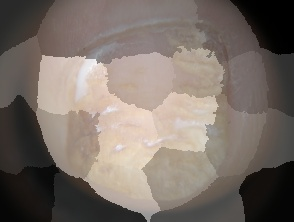Nail_psoriasis: (51, 9, 256, 219)
